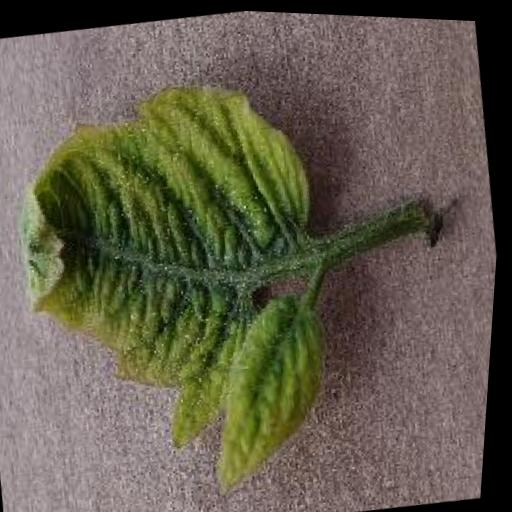Yellow Leaf Curl Virus: (0, 58, 345, 472), (191, 280, 356, 494)
